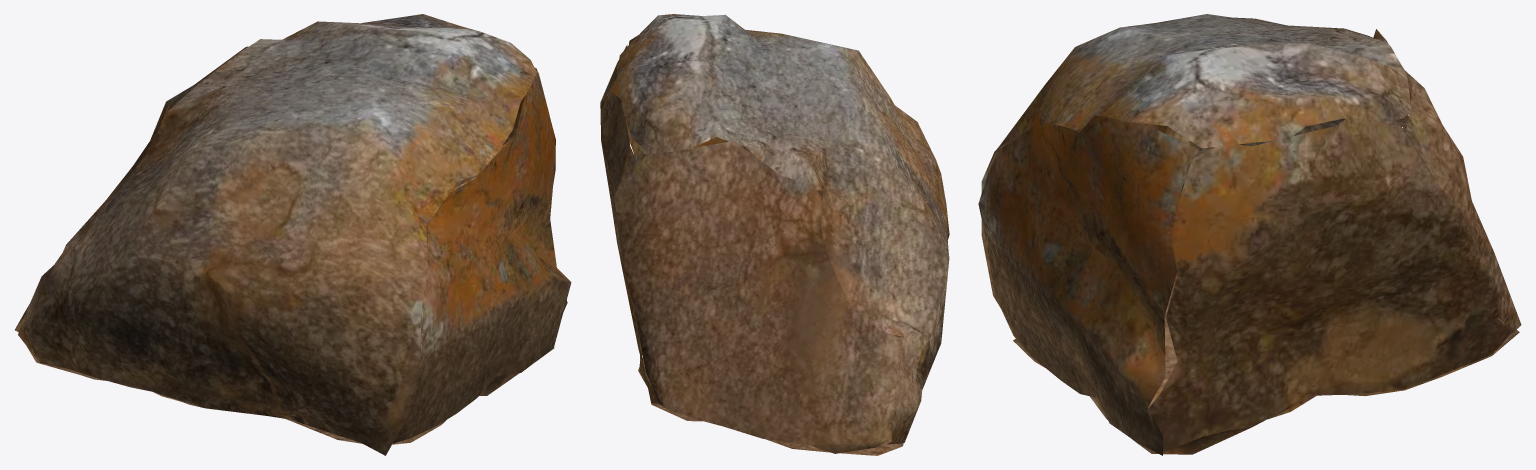
The model's file is rock04.glb.
3 views of the same model, side by side, from view 1: azimuth 30°, elevation 25°; view 2: azimuth 150°, elevation 25°; view 3: azimuth 270°, elevation 25° (orthographic). The views are drawn at different scales.
Visible parts, largest first — view 1: boulder_04; view 2: boulder_04; view 3: boulder_04.
Part boxes in pixels (x1=…): boulder_04: x1=15, y1=14, x2=571, y2=455; boulder_04: x1=600, y1=14, x2=949, y2=455; boulder_04: x1=978, y1=14, x2=1521, y2=455.
Size of the model in its own units: 1.35 by 1 by 1.34.
Materials: 1 (1 with a texture image).
